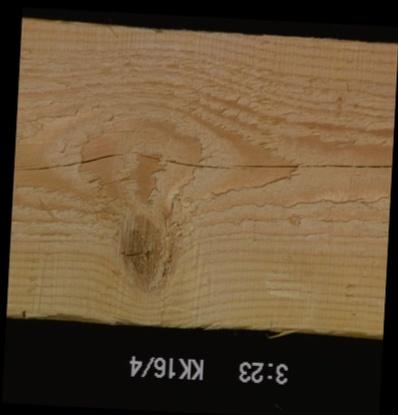sound_knot: (116, 211, 174, 293)
split: (13, 149, 390, 182), (84, 174, 139, 191)
wave: (178, 307, 382, 334), (6, 302, 117, 320)
